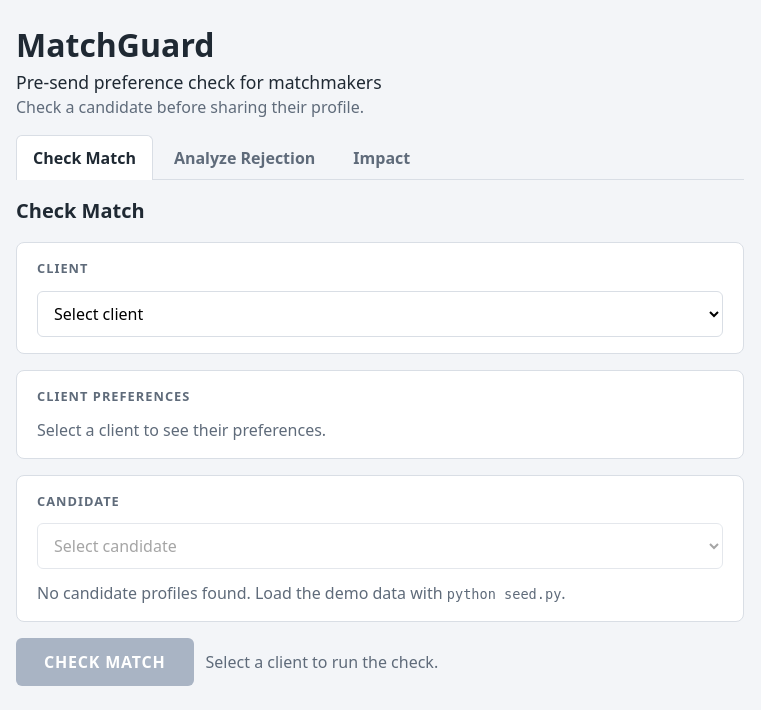
Test: Impact mode › shows the success metric without inventing a post-launch value
Click the tab "Impact".
click(382, 158)  # box [336,135,427,180]
(page scrolled)
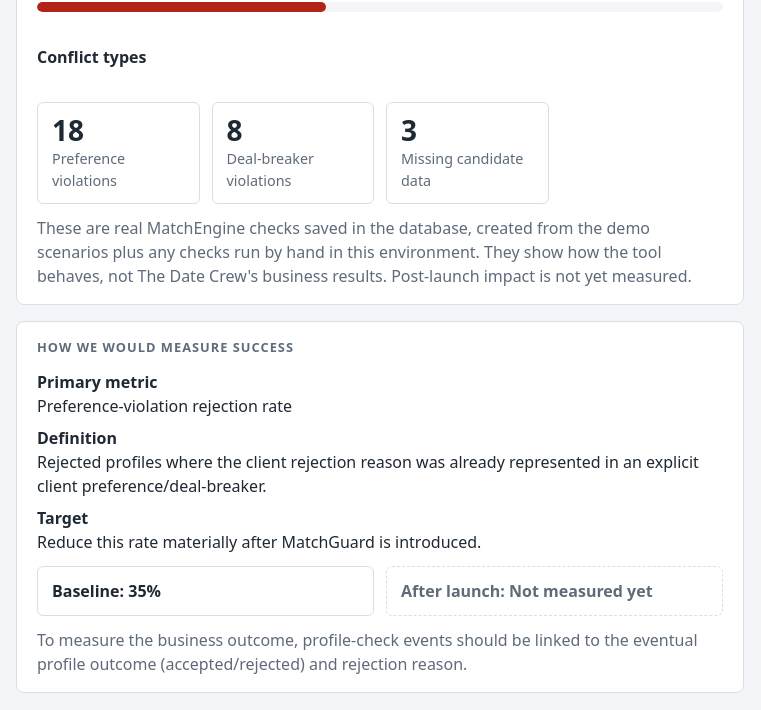
Expected: the text "Baseline: 35%" is shown, [37,566,374,616]
Expected: the text "After launch: Not measured yet" is shown, [386,566,723,616]
Expected: the text "Preference-violation rejection rate" is shown, [37,394,292,416]
